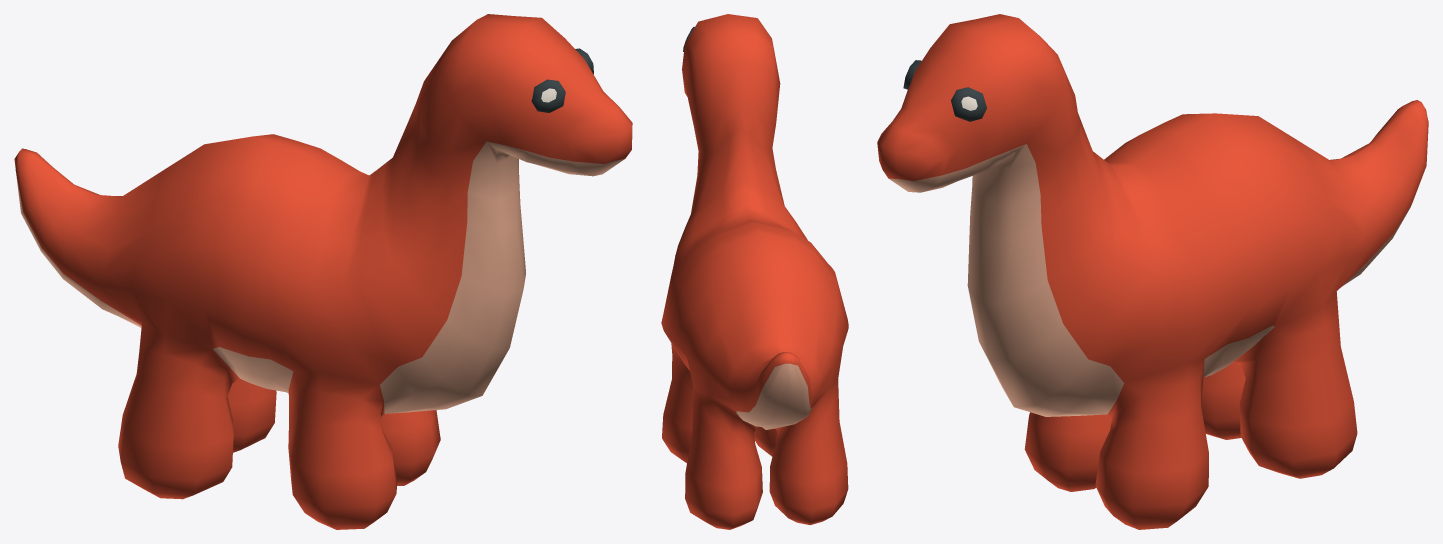
The model's file is Dinosaur_Orange.fbx.
3 views of the same model, side by side, from view 1: azimuth 30°, elevation 25°; view 2: azimuth 150°, elevation 25°; view 3: azimuth 270°, elevation 25° (orthographic). The views are drawn at different scales.
Visible parts, largest first — view 1: Dinosaur_Orange; view 2: Dinosaur_Orange; view 3: Dinosaur_Orange.
Part boxes in pixels (x1,y1,x2,y2): Dinosaur_Orange: (14,14,632,529); Dinosaur_Orange: (661,14,848,529); Dinosaur_Orange: (877,14,1428,529).
Size of the model in its own units: 4.23 by 5.42 by 5.26.
